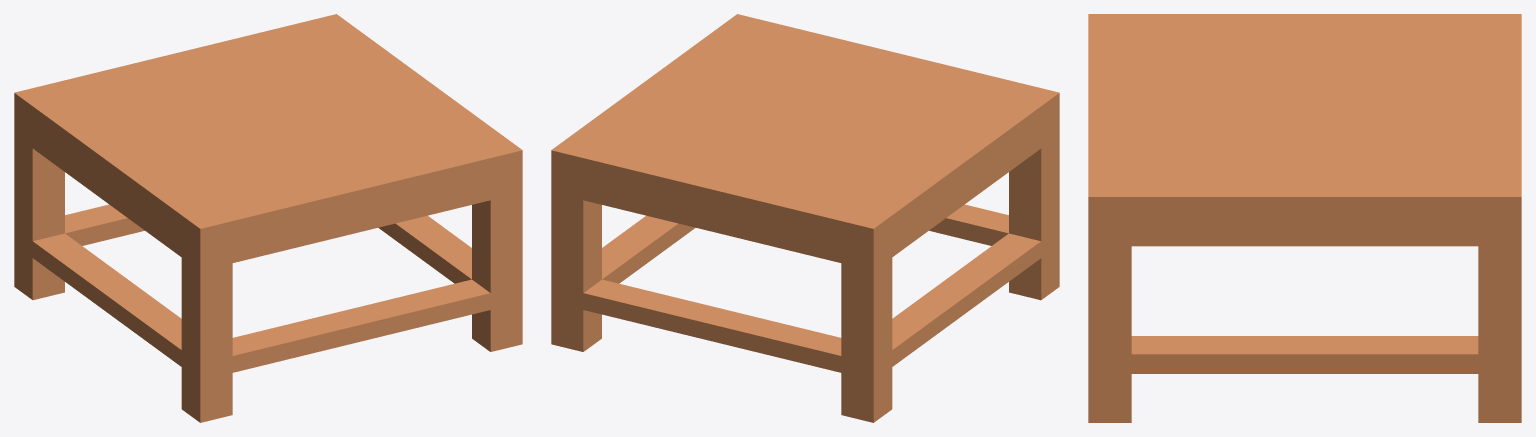
The picture shows the model from 3 angles, left to right: view 1: azimuth 30°, elevation 25°; view 2: azimuth 150°, elevation 25°; view 3: azimuth 270°, elevation 25°; orthographic projection. The views are drawn at different scales.
Visible parts, largest first — view 1: tableCoffeeSquare(Clone); view 2: tableCoffeeSquare(Clone); view 3: tableCoffeeSquare(Clone).
Part boxes in pixels (x1,y1,x2,y2): tableCoffeeSquare(Clone): (14,14,522,422); tableCoffeeSquare(Clone): (551,14,1059,422); tableCoffeeSquare(Clone): (1088,14,1521,422).
Bounding box in the file's own units: 0.4 × 0.23 × 0.4.
